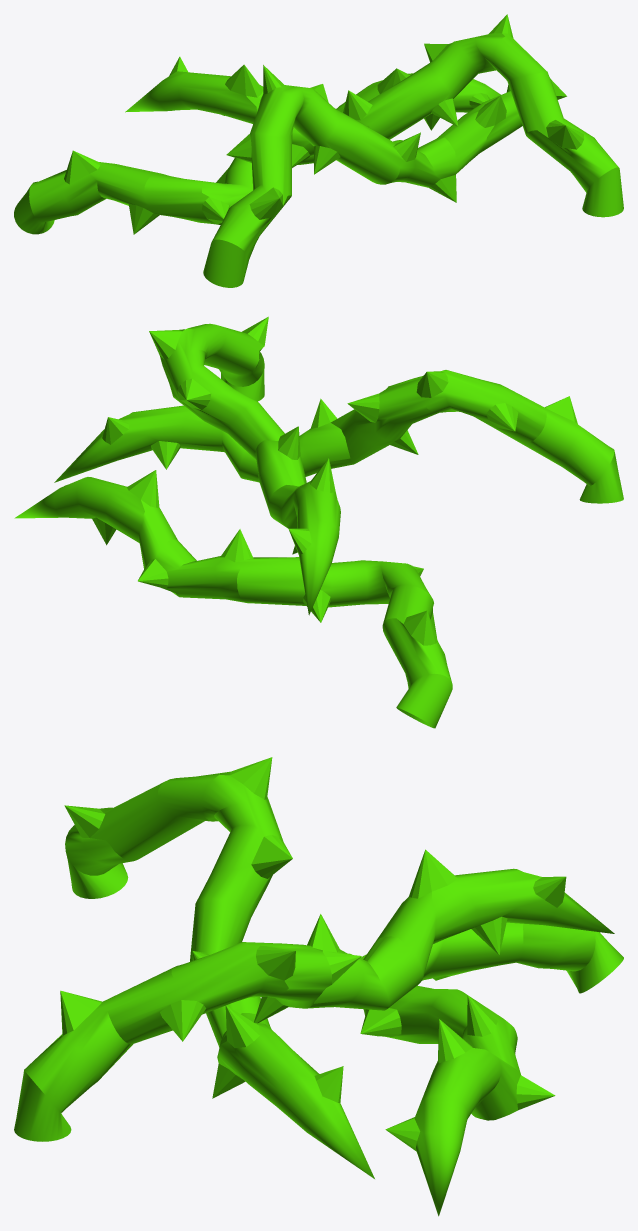
Rendered from down_2 (1).fbx.
3 views of the same model, one above another, from view 1: azimuth 30°, elevation 25°; view 2: azimuth 150°, elevation 25°; view 3: azimuth 270°, elevation 25° (orthographic). The views are drawn at different scales.
Visible parts, largest first — view 1: polySurface2, polySurface3, polySurface4; view 2: polySurface4, polySurface3, polySurface2; view 3: polySurface2, polySurface3, polySurface4.
Part boxes in pixels (x1=…): polySurface2: x1=125, y1=14, x2=623, y2=217; polySurface3: x1=203, y1=65, x2=522, y2=287; polySurface4: x1=14, y1=68, x2=500, y2=234; polySurface4: x1=14, y1=470, x2=452, y2=728; polySurface3: x1=54, y1=370, x2=623, y2=503; polySurface2: x1=149, y1=316, x2=340, y2=615; polySurface2: x1=14, y1=849, x2=614, y2=1141; polySurface3: x1=64, y1=757, x2=374, y2=1178; polySurface4: x1=360, y1=922, x2=623, y2=1216.
Size of the model in its own units: 374 by 175 by 314.
